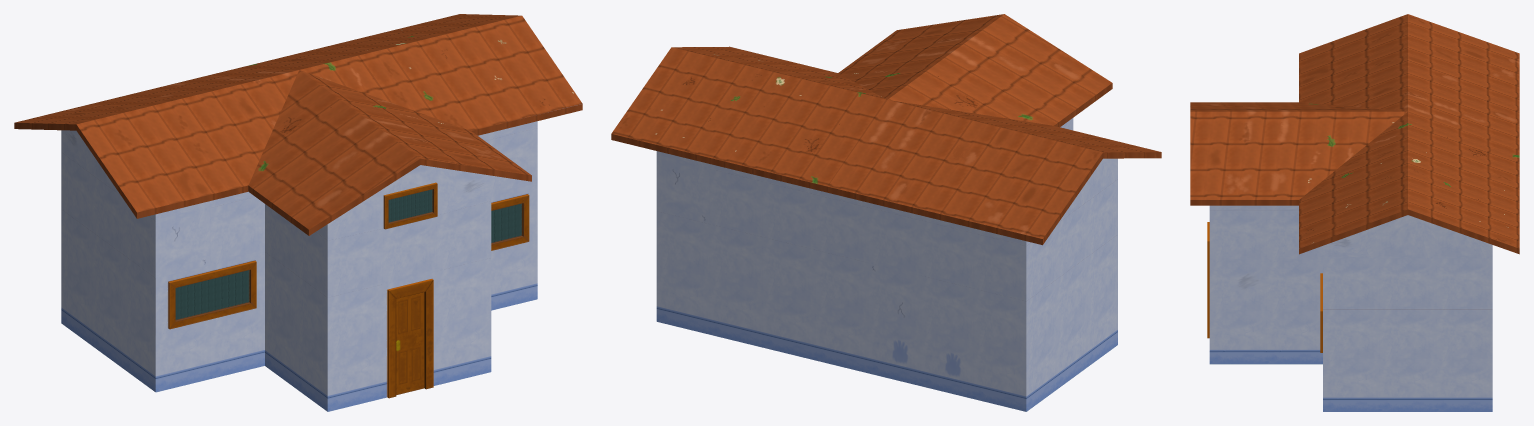
Rendered from Houses_SuburbanHouseWhite4.fbx.
3 views of the same model, side by side, from view 1: azimuth 30°, elevation 25°; view 2: azimuth 150°, elevation 25°; view 3: azimuth 270°, elevation 25° (orthographic). The views are drawn at different scales.
Parts seen in each view (by area): view 1: House4.2; view 2: House4.2; view 3: House4.2.
Part boxes in pixels (<box>): House4.2: <box>14,14,582,411</box>; House4.2: <box>611,14,1161,411</box>; House4.2: <box>1190,14,1519,411</box>.
Bounding box in the file's own units: 757 × 392 × 540.
1 material, 1 textured.
